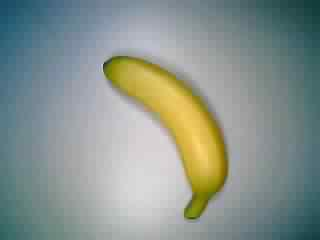banana: (101, 54, 231, 222)
